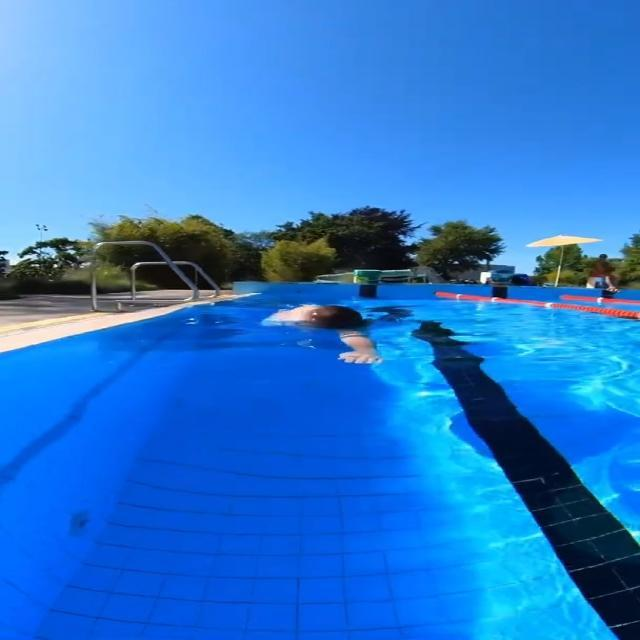Swimming: (261, 298, 408, 374)
